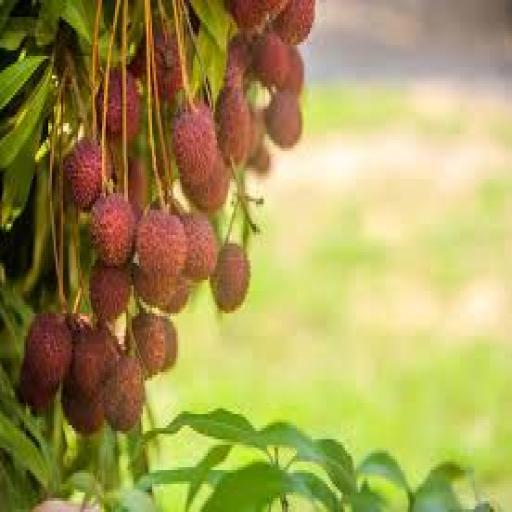lychee: (173, 101, 218, 184), (25, 314, 72, 391), (136, 210, 187, 276), (71, 328, 118, 397), (90, 194, 135, 265), (103, 356, 144, 430), (182, 154, 230, 212), (210, 244, 250, 313), (216, 87, 250, 165), (132, 314, 174, 377), (64, 140, 102, 209), (90, 261, 131, 321), (182, 213, 217, 282), (62, 378, 103, 436), (253, 31, 289, 89), (266, 93, 302, 148), (154, 31, 181, 103), (134, 266, 178, 310), (19, 364, 57, 414), (97, 70, 124, 139), (275, 0, 315, 44), (225, 34, 252, 89), (128, 160, 150, 218), (227, 0, 265, 33), (282, 48, 304, 95), (164, 277, 192, 313), (249, 143, 270, 176)
